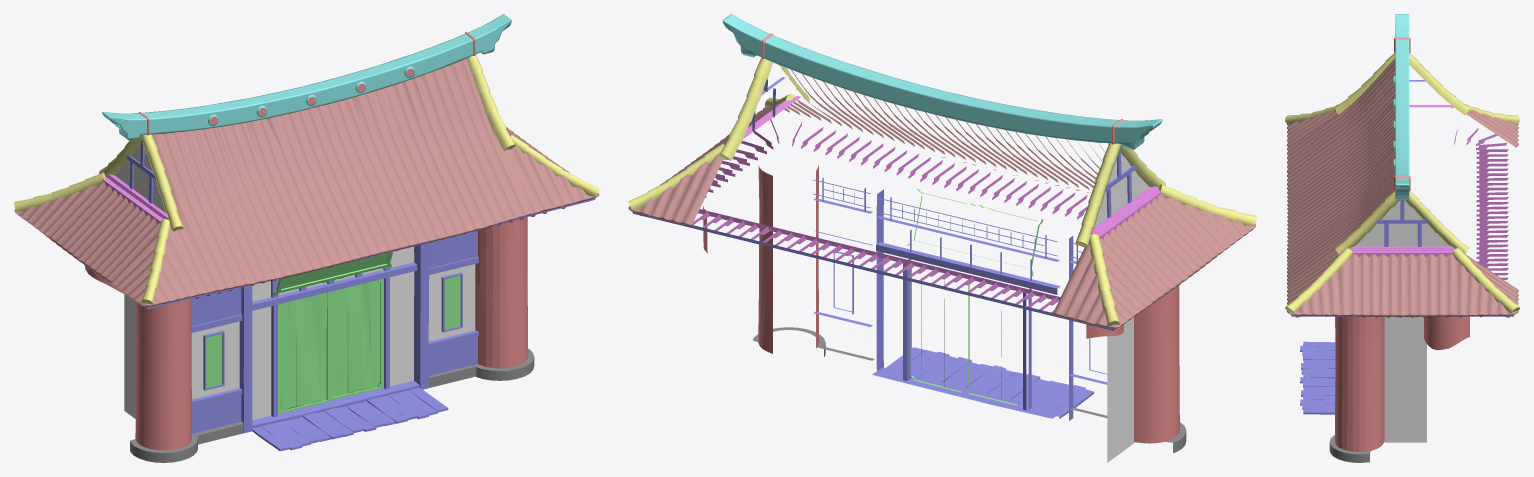
File: SM_ENV_LKNVLD_Hokage_Gate_Front_Lod1.gltf
The picture shows the model from 3 angles, left to right: view 1: azimuth 30°, elevation 25°; view 2: azimuth 150°, elevation 25°; view 3: azimuth 270°, elevation 25°; orthographic projection. The views are drawn at different scales.
Parts seen in each view (by area): view 1: SM_ENV_LKNVLD_Hokage_Gate_Front_Lod1; view 2: SM_ENV_LKNVLD_Hokage_Gate_Front_Lod1; view 3: SM_ENV_LKNVLD_Hokage_Gate_Front_Lod1.
Boxes of the visible parts, left/top/right/bottom form: SM_ENV_LKNVLD_Hokage_Gate_Front_Lod1: left=14, top=14, right=599, bottom=462; SM_ENV_LKNVLD_Hokage_Gate_Front_Lod1: left=628, top=14, right=1256, bottom=462; SM_ENV_LKNVLD_Hokage_Gate_Front_Lod1: left=1285, top=14, right=1519, bottom=462.
Bounding box in the file's own units: 16.34 × 11.08 × 8.37.
